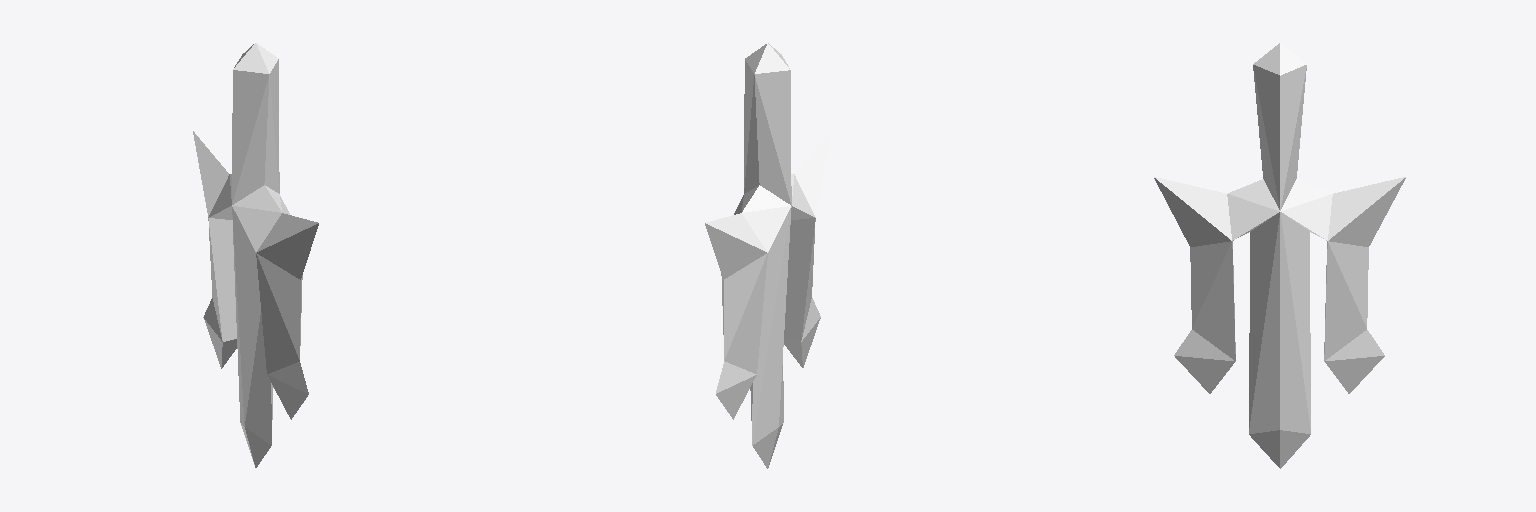
File: twinblade03_4.obj
3 views of the same model, side by side, from view 1: azimuth 30°, elevation 25°; view 2: azimuth 150°, elevation 25°; view 3: azimuth 270°, elevation 25° (orthographic).
Visible parts, largest first — view 1: cwdhsw03_4l; view 2: cwdhsw03_4l; view 3: cwdhsw03_4l.
Part boxes in pixels (x1,y1,x2,y2): cwdhsw03_4l: (193,43,318,467); cwdhsw03_4l: (705,43,830,468); cwdhsw03_4l: (1154,43,1405,468).
Size of the model in its own units: 0.08 by 0.685 by 0.3688.